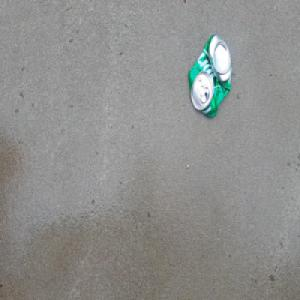SodaCan: (187, 32, 233, 119)
